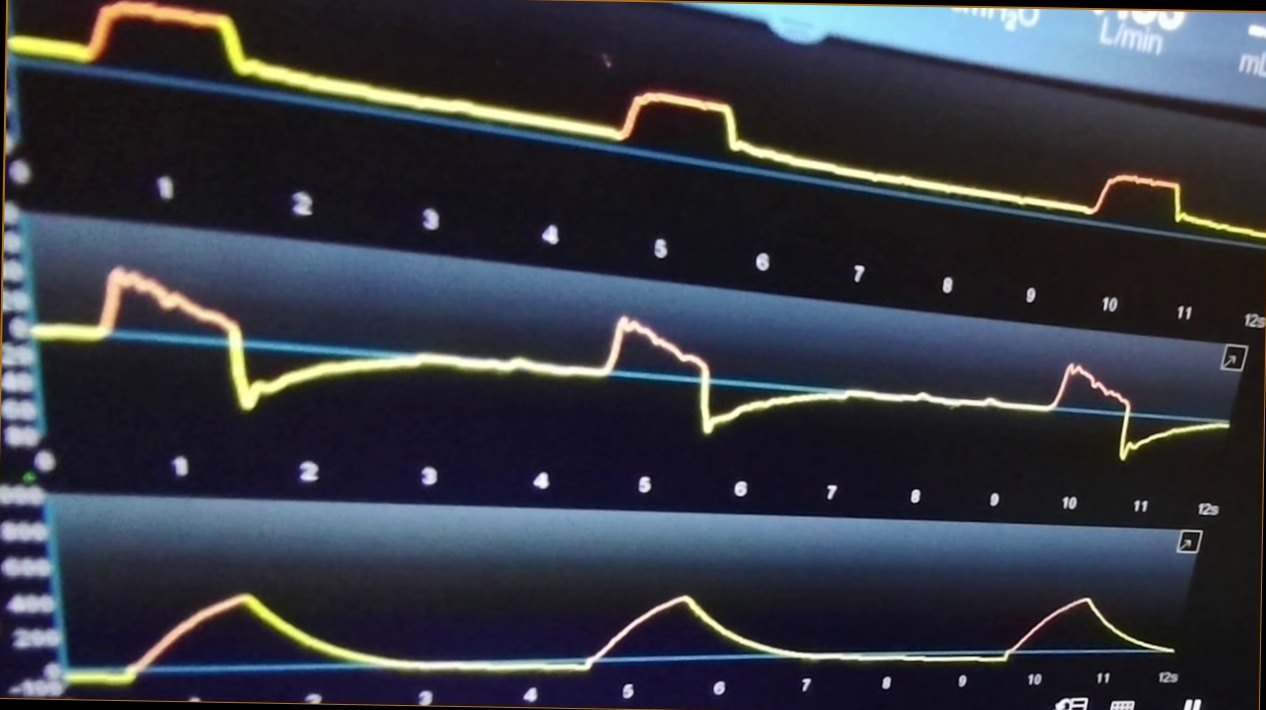Accumulation Flow: (56, 268, 1226, 459)
Volume: (75, 558, 1173, 695)
